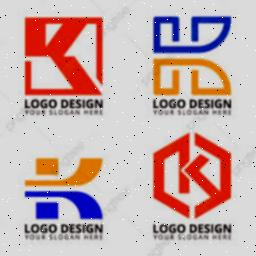k: (146, 134, 236, 216)
